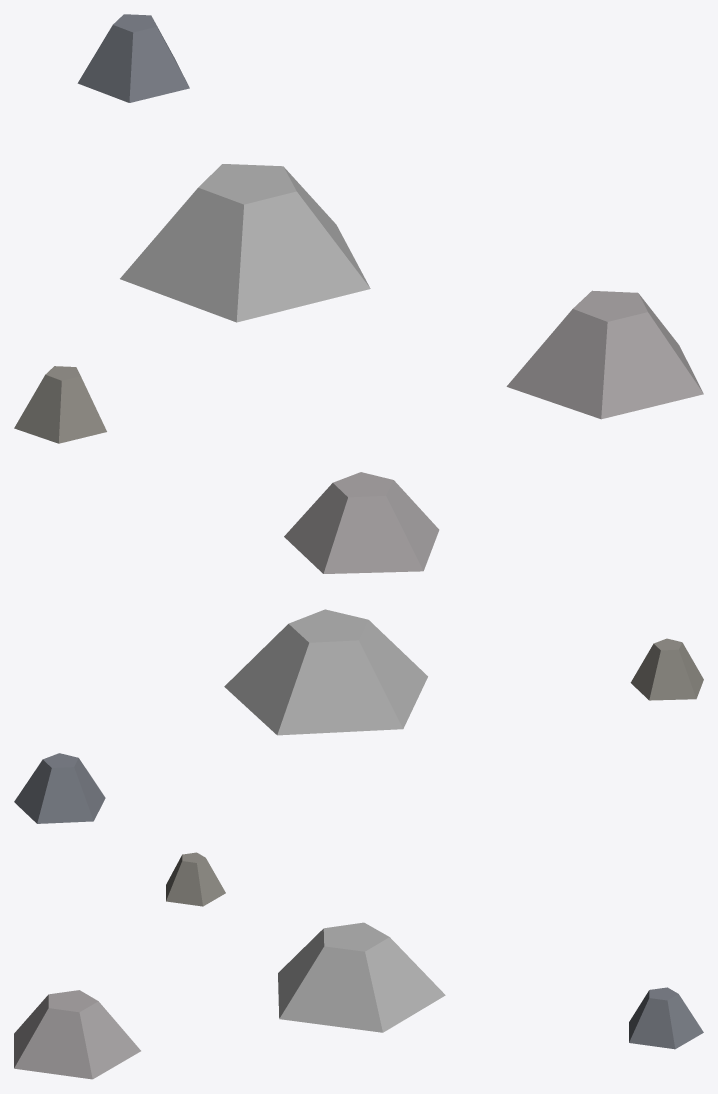
File: Rocks_Round_s_04 5.fbx
The picture shows the model from 3 angles, top to bottom: view 1: azimuth 30°, elevation 25°; view 2: azimuth 150°, elevation 25°; view 3: azimuth 270°, elevation 25°; orthographic projection. The views are drawn at different scales.
Parts seen in each view (by area): view 1: Rocks_Round_s_04; view 2: Rocks_Round_s_04; view 3: Rocks_Round_s_04.
Part boxes in pixels (x1,y1,x2,y2): Rocks_Round_s_04: [14, 14, 703, 443]; Rocks_Round_s_04: [14, 472, 703, 823]; Rocks_Round_s_04: [14, 852, 703, 1079].
Size of the model in its own units: 35.58 by 4.94 by 52.01.
